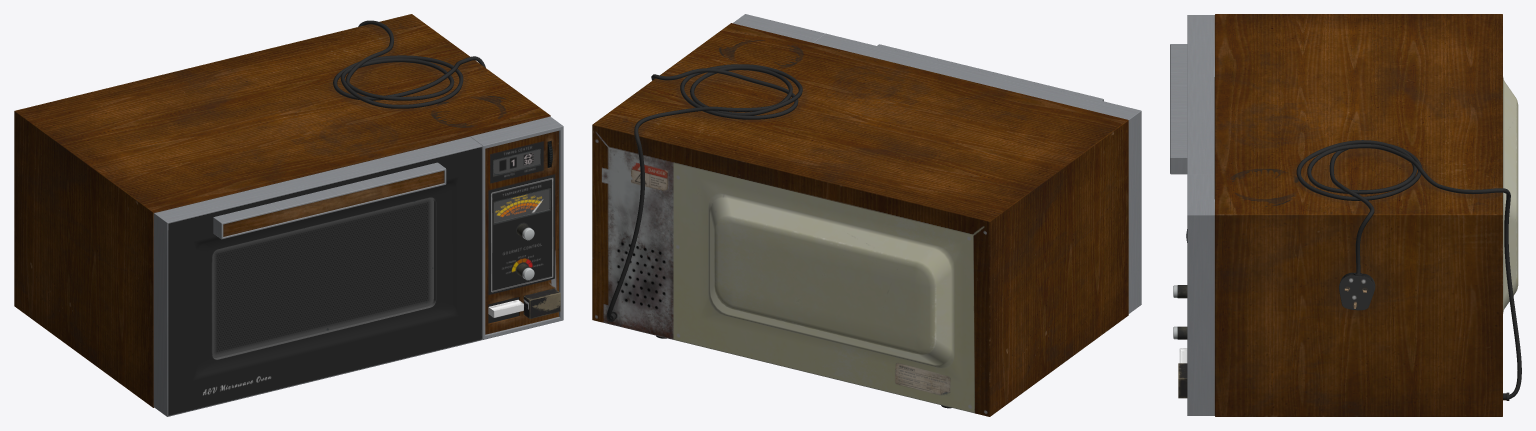
File: vintage_microwave_2k.fbx
3 renders of one model, left to right at view 1: azimuth 30°, elevation 25°; view 2: azimuth 150°, elevation 25°; view 3: azimuth 270°, elevation 25°, orthographic. The views are drawn at different scales.
Parts seen in each view (by area): view 1: vintage_microwave; view 2: vintage_microwave; view 3: vintage_microwave.
Part boxes in pixels (x1=…): vintage_microwave: x1=14, y1=14, x2=563, y2=416; vintage_microwave: x1=592, y1=14, x2=1141, y2=416; vintage_microwave: x1=1170, y1=14, x2=1521, y2=416.
Bounding box in the file's own units: 107 × 52.58 × 74.56.
